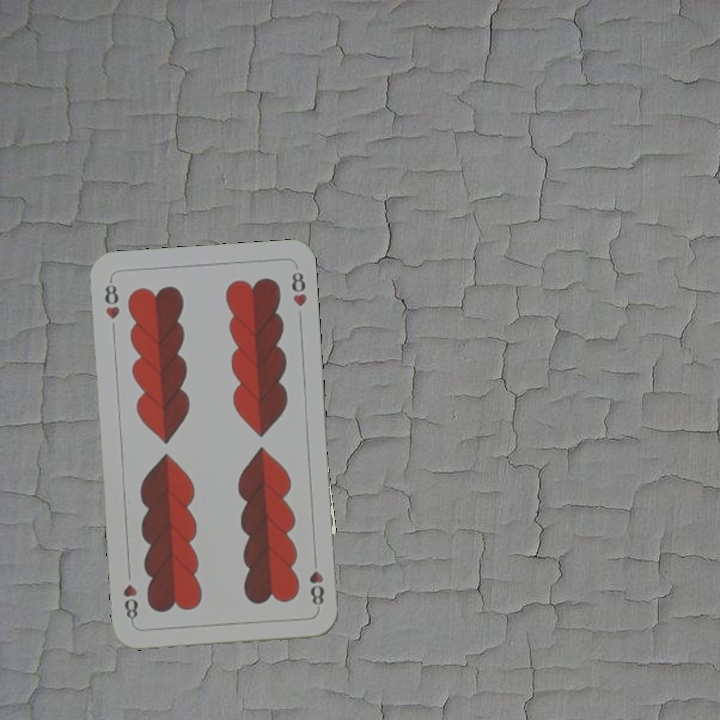H8: (101, 276, 123, 322), (305, 566, 327, 608)
